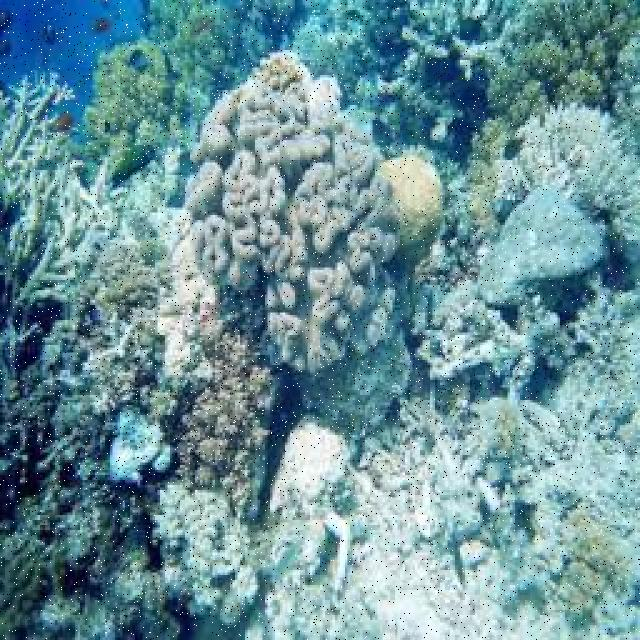reefs: (184, 53, 403, 375)
sea-floor: (476, 182, 609, 305)
